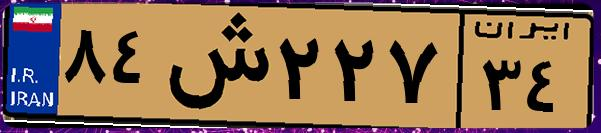2: (270, 28, 330, 110), (330, 28, 385, 110)
3: (475, 38, 525, 113)
4: (525, 38, 570, 115), (110, 28, 158, 98)
7: (385, 28, 445, 110)
8: (57, 26, 110, 100)
ش: (158, 12, 270, 120)
